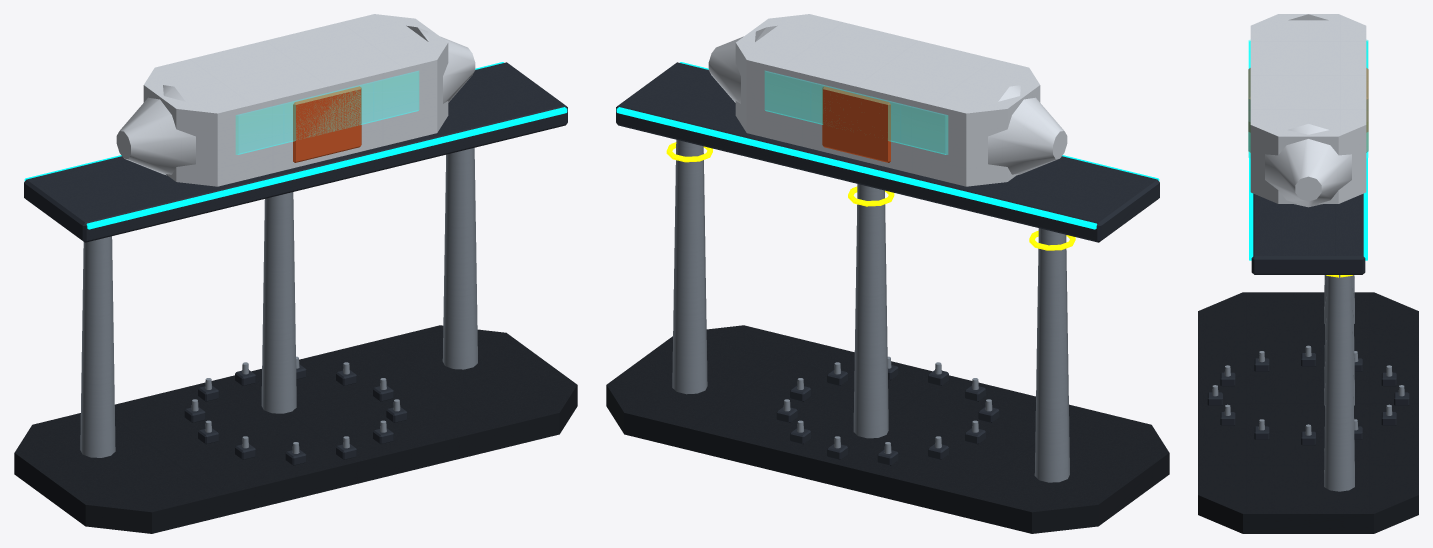
File: prop_01_r1_05.glb
3 views of the same model, side by side, from view 1: azimuth 30°, elevation 25°; view 2: azimuth 150°, elevation 25°; view 3: azimuth 270°, elevation 25° (orthographic). The views are drawn at different scales.
Visible parts, largest first — view 1: Prop01_C05_gunmetal, Prop01_C05_aero_white, Prop01_C05_carbon_slate, Prop01_C05_steel_machined, Prop01_C05_glass_emerald, Prop01_C05_accent_orange, Prop01_C05_led_cyan; view 2: Prop01_C05_gunmetal, Prop01_C05_aero_white, Prop01_C05_steel_machined, Prop01_C05_carbon_slate, Prop01_C05_glass_emerald, Prop01_C05_accent_orange, Prop01_C05_led_cyan, Prop01_C05_led_amber; view 3: Prop01_C05_gunmetal, Prop01_C05_aero_white, Prop01_C05_carbon_slate, Prop01_C05_steel_machined, Prop01_C05_led_cyan, Prop01_C05_glass_emerald, Prop01_C05_accent_orange.
Boxes of the visible parts, x1,y1,x2,y2 form: Prop01_C05_gunmetal: [14, 325, 577, 533]; Prop01_C05_aero_white: [116, 14, 475, 186]; Prop01_C05_carbon_slate: [24, 62, 567, 465]; Prop01_C05_steel_machined: [80, 148, 477, 457]; Prop01_C05_glass_emerald: [236, 71, 418, 154]; Prop01_C05_accent_orange: [293, 86, 361, 162]; Prop01_C05_led_cyan: [24, 62, 567, 229]; Prop01_C05_gunmetal: [606, 325, 1169, 533]; Prop01_C05_aero_white: [708, 14, 1067, 186]; Prop01_C05_steel_machined: [672, 139, 1069, 482]; Prop01_C05_carbon_slate: [616, 62, 1159, 465]; Prop01_C05_glass_emerald: [765, 71, 947, 154]; Prop01_C05_accent_orange: [822, 86, 890, 162]; Prop01_C05_led_cyan: [616, 62, 1159, 229]; Prop01_C05_led_amber: [666, 142, 1075, 250]; Prop01_C05_gunmetal: [1198, 292, 1418, 533]; Prop01_C05_aero_white: [1250, 14, 1366, 207]; Prop01_C05_carbon_slate: [1207, 193, 1409, 445]; Prop01_C05_steel_machined: [1212, 275, 1404, 491]; Prop01_C05_led_cyan: [1249, 41, 1367, 260]; Prop01_C05_glass_emerald: [1248, 40, 1368, 158]; Prop01_C05_accent_orange: [1248, 68, 1368, 152].
Size of the model in its own units: 7.6 by 5.66 by 3.2.
Materials: 8 (8 with a texture image).
